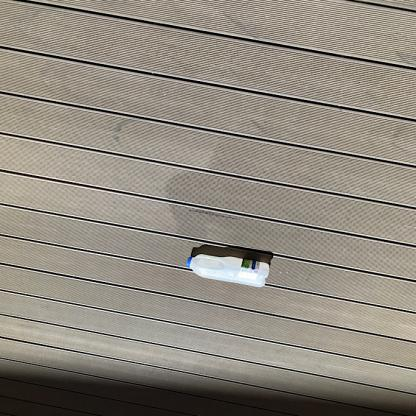trash: (182, 249, 276, 290)
